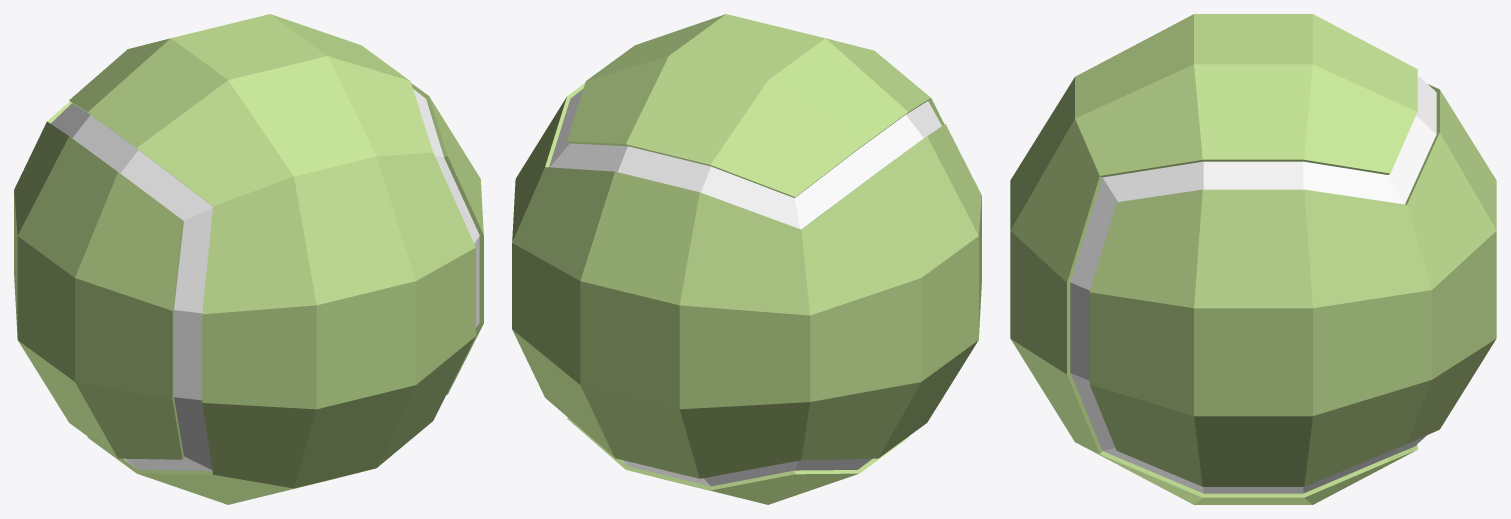
The model's file is Tennis Ball.fbx.
3 renders of one model, left to right at view 1: azimuth 30°, elevation 25°; view 2: azimuth 150°, elevation 25°; view 3: azimuth 270°, elevation 25°, orthographic. The views are drawn at different scales.
Visible parts, largest first — view 1: Tennis_Ball_01; view 2: Tennis_Ball_01; view 3: Tennis_Ball_01.
Boxes of the visible parts, x1=… form: Tennis_Ball_01: x1=14, y1=14, x2=483, y2=504; Tennis_Ball_01: x1=512, y1=14, x2=981, y2=504; Tennis_Ball_01: x1=1010, y1=14, x2=1496, y2=504.
Bounding box in the file's own units: 945 × 945 × 945.
